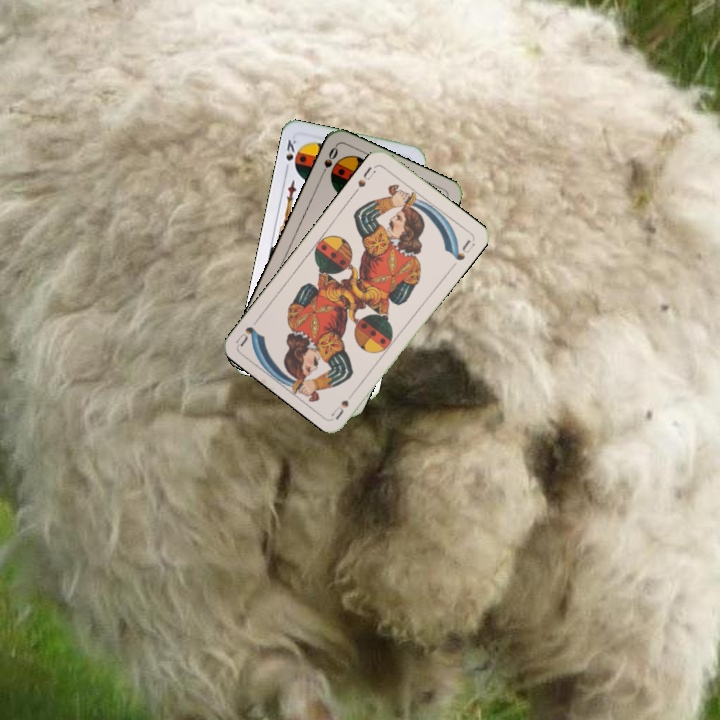SK: (281, 135, 302, 174)
SO: (316, 142, 341, 180)
SU: (350, 162, 378, 196), (328, 396, 352, 421)
